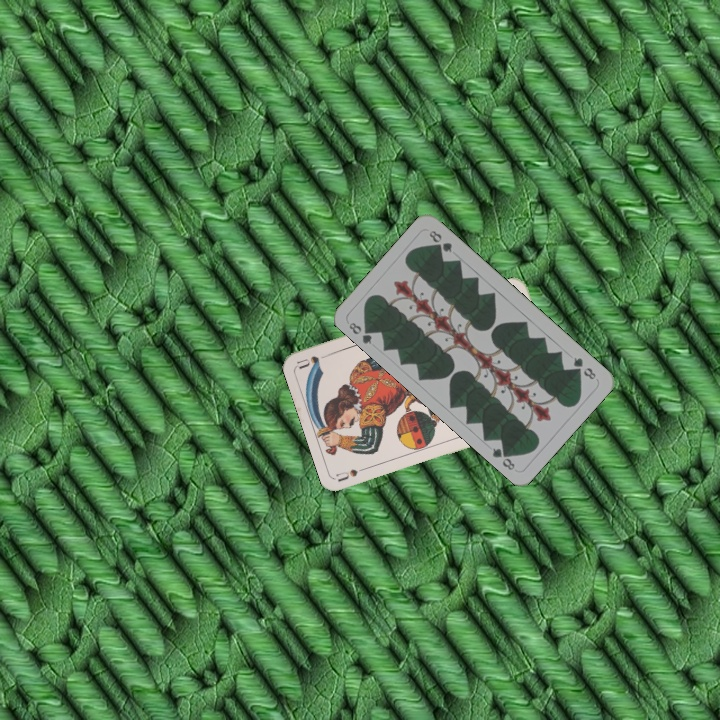G8: (345, 318, 376, 347), (569, 353, 599, 382)
SU: (333, 462, 374, 484)
